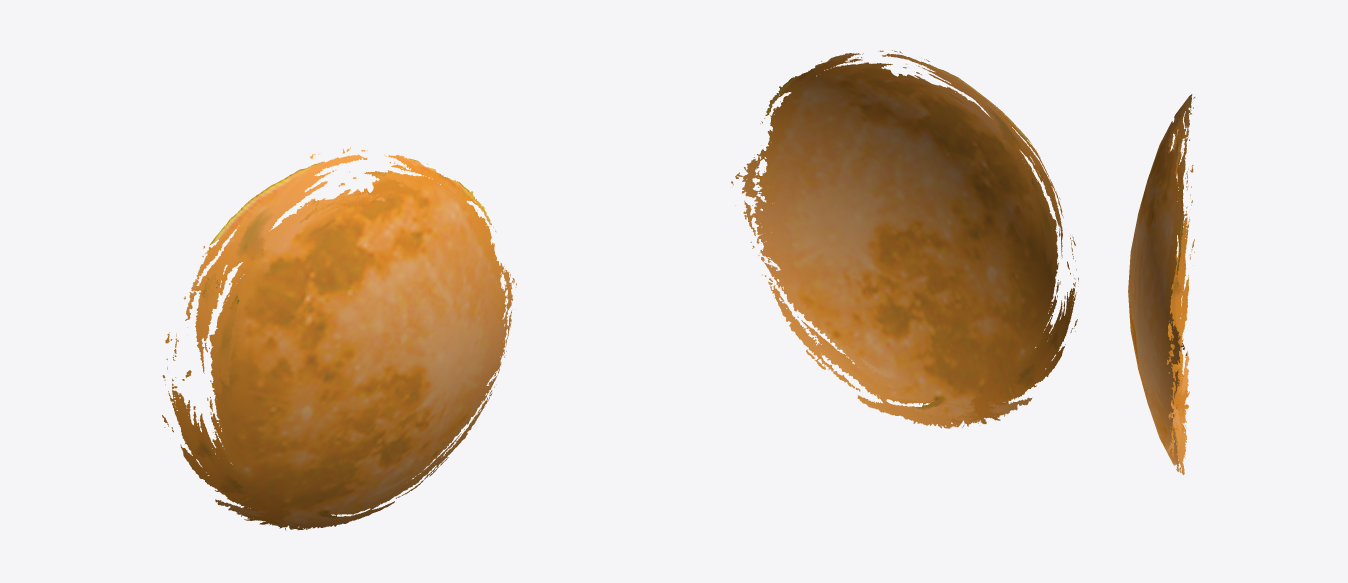
Rendered from moon_spher.fbx.
3 renders of one model, left to right at view 1: azimuth 30°, elevation 25°; view 2: azimuth 150°, elevation 25°; view 3: azimuth 270°, elevation 25°, orthographic. The views are drawn at different scales.
Visible parts, largest first — view 1: moon_spher; view 2: moon_spher; view 3: moon_spher.
Boxes of the visible parts, x1,y1,x2,y2 form: moon_spher: [162, 147, 516, 530]; moon_spher: [731, 50, 1078, 428]; moon_spher: [1128, 94, 1195, 474].
Size of the model in its own units: 165 by 165 by 61.02.
